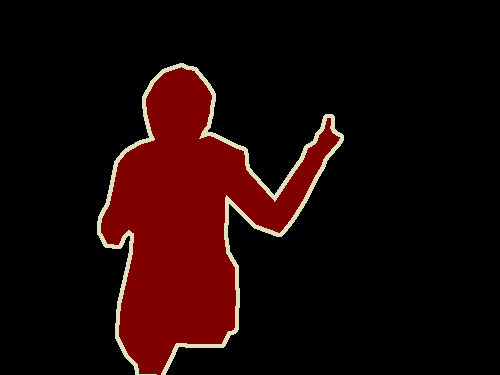person: (100, 68, 340, 375)
person/hand: (305, 118, 341, 163), (106, 203, 135, 237)
person/head: (144, 69, 214, 159)
